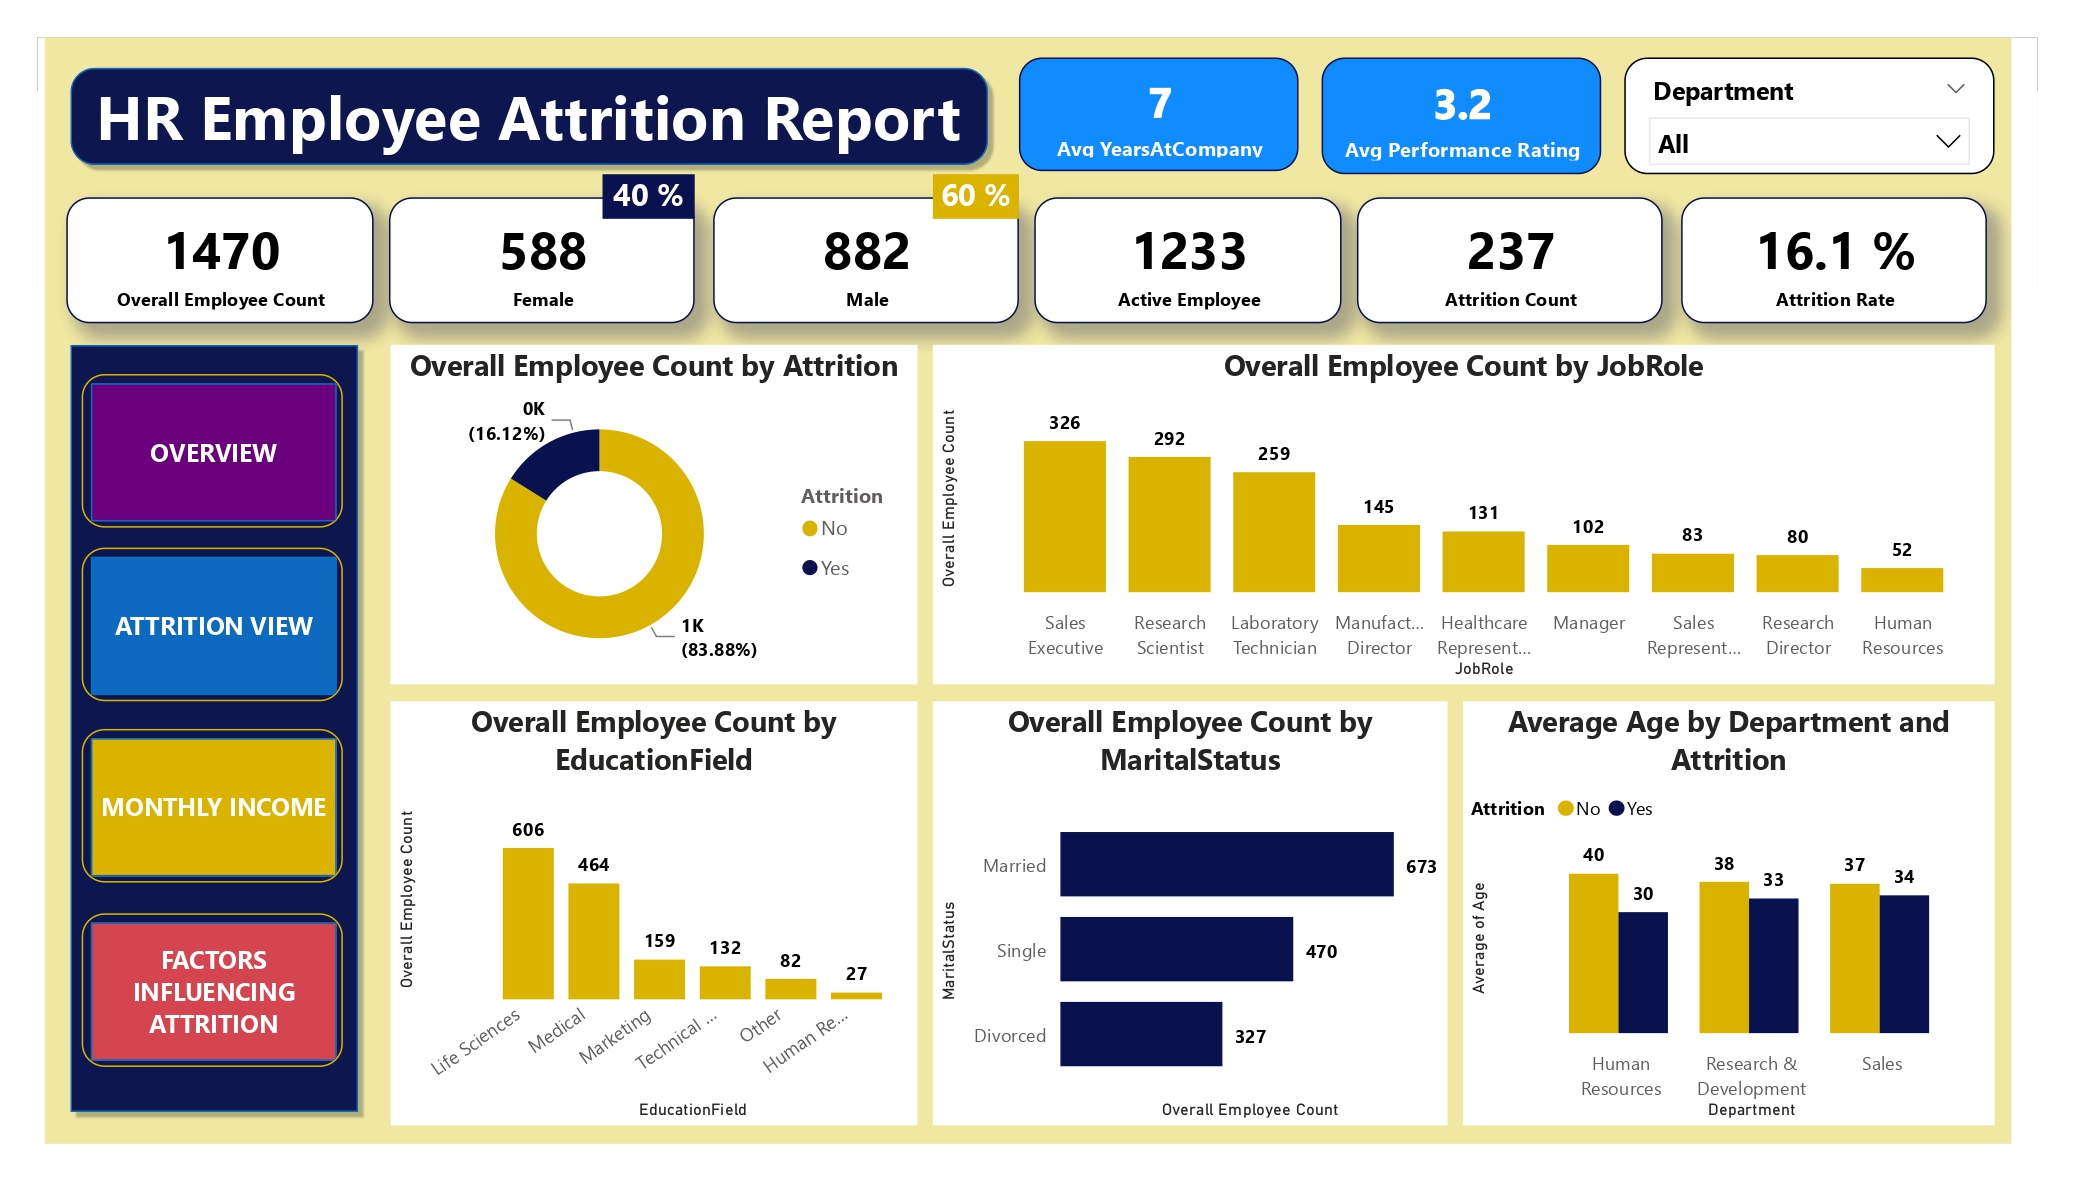

Layout of this report page (visuals, bound fields, positions):
{"tool":"powerbi","page":{"name":"Page 1","canvas":[1280,720],"ordinal":0},"visuals":[{"type":"card","fields":{"Values":["HR-Employee-Attrition.Overall Employee Count"]},"box":[14.1,104.1,199.7,81.6],"z":0,"group":"g1"},{"type":"card","fields":{"Values":["HR-Employee-Attrition.Avg Performance Rating"]},"box":[831.3,12.7,181.5,76],"z":0},{"type":"card","fields":{"Values":["HR-Employee-Attrition.Female"]},"box":[223.7,104.1,199.7,81.6],"z":1000,"group":"g1"},{"type":"card","fields":{"Values":["HR-Employee-Attrition.Avg YearsAtCompany"]},"box":[634.4,12.7,181.5,74.5],"z":1000},{"type":"card","fields":{"Values":["HR-Employee-Attrition.Male"]},"box":[434.7,104.1,199.7,81.6],"z":2000,"group":"g1"},{"type":"shape","box":[9.8,12.7,610.5,76],"z":2000},{"type":"card","fields":{"Values":["HR-Employee-Attrition.Active Employee"]},"box":[644.3,104.1,199.7,81.6],"z":3000,"group":"g1"},{"type":"slicer","fields":{"Values":["HR-Employee-Attrition.Department"]},"box":[1028.2,12.7,240.5,76],"z":3000},{"type":"card","fields":{"Values":["HR-Employee-Attrition.Attrition Count"]},"box":[853.8,104.1,199.7,81.6],"z":4000,"group":"g1"},{"type":"group","id":"g1","title":"Group 1","box":[14.1,104.1,1250.5,81.6],"z":4000},{"type":"card","fields":{"Values":["HR-Employee-Attrition.Attrition Rate"]},"box":[1064.8,104.1,199.7,81.6],"z":5000,"group":"g1"},{"type":"shape","box":[9.8,194.1,199.7,512],"z":5000},{"type":"donutChart","fields":{"Category":["HR-Employee-Attrition.Attrition"],"Y":["HR-Employee-Attrition.Overall Employee Count"]},"box":[225.1,199.7,343.2,220.8],"z":6000},{"type":"columnChart","fields":{"Category":["HR-Employee-Attrition.EducationField"],"Y":["HR-Employee-Attrition.Overall Employee Count"]},"box":[225.1,431.8,343.2,275.7],"z":7000},{"type":"clusteredColumnChart","fields":{"Category":["HR-Employee-Attrition.JobRole"],"Y":["HR-Employee-Attrition.Overall Employee Count"]},"box":[578.1,199.7,690.6,220.8],"z":8000},{"type":"clusteredBarChart","fields":{"Category":["HR-Employee-Attrition.MaritalStatus"],"Y":["HR-Employee-Attrition.Overall Employee Count"]},"box":[578.1,431.8,334.8,275.7],"z":9000},{"type":"clusteredColumnChart","title":"Average Age by Department and Attrition","fields":{"Category":["HR-Employee-Attrition.Department"],"Y":["Avg(HR-Employee-Attrition.Age)"],"Series":["HR-Employee-Attrition.Attrition"]},"box":[922.7,431.8,346,275.7],"z":10000},{"type":"card","fields":{"Values":["HR-Employee-Attrition.% Female"]},"box":[362.9,88.6,60.5,29.5],"z":11000},{"type":"card","fields":{"Values":["HR-Employee-Attrition.% Male"]},"box":[578.1,88.6,56.3,29.5],"z":12000},{"type":"shape","box":[23.9,332,170.2,99.9],"z":13000},{"type":"shape","box":[23.9,450.1,170.2,99.9],"z":14000},{"type":"shape","box":[23.9,569.7,170.2,99.9],"z":15000},{"type":"shape","box":[23.9,219.4,170.2,99.9],"z":16000}]}

Visuals, with their boxes in screenshot pixels (x1, y1, x2, y2):
card - HR-Employee-Attrition.Overall Employee Count: [60,200,372,328]
card - HR-Employee-Attrition.Avg Performance Rating: [1336,57,1620,176]
card - HR-Employee-Attrition.Female: [387,200,699,328]
card - HR-Employee-Attrition.Avg YearsAtCompany: [1029,57,1312,174]
card - HR-Employee-Attrition.Male: [717,200,1029,328]
shape: [53,57,1007,176]
card - HR-Employee-Attrition.Active Employee: [1044,200,1356,328]
slicer - HR-Employee-Attrition.Department: [1644,57,2020,176]
card - HR-Employee-Attrition.Attrition Count: [1372,200,1684,328]
"Group 1" group: [60,200,2013,328]
card - HR-Employee-Attrition.Attrition Rate: [1701,200,2013,328]
shape: [53,341,365,1141]
donutChart - HR-Employee-Attrition.Attrition x HR-Employee-Attrition.Overall Employee Count: [389,350,925,695]
columnChart - HR-Employee-Attrition.EducationField x HR-Employee-Attrition.Overall Employee Count: [389,712,925,1143]
clusteredColumnChart - HR-Employee-Attrition.JobRole x HR-Employee-Attrition.Overall Employee Count: [941,350,2020,695]
clusteredBarChart - HR-Employee-Attrition.MaritalStatus x HR-Employee-Attrition.Overall Employee Count: [941,712,1464,1143]
"Average Age by Department and Attrition" clusteredColumnChart: [1479,712,2020,1143]
card - HR-Employee-Attrition.% Female: [605,176,699,222]
card - HR-Employee-Attrition.% Male: [941,176,1029,222]
shape: [75,556,341,712]
shape: [75,741,341,897]
shape: [75,928,341,1084]
shape: [75,380,341,536]
